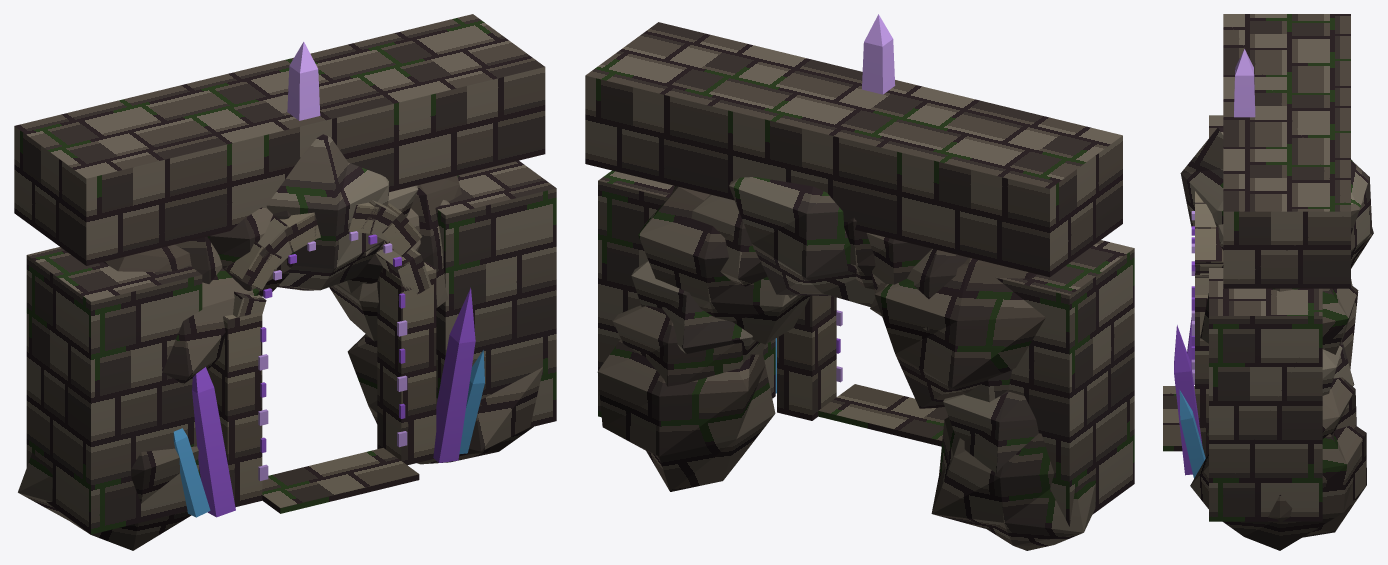
The model's file is prism_door.glb.
3 views of the same model, side by side, from view 1: azimuth 30°, elevation 25°; view 2: azimuth 150°, elevation 25°; view 3: azimuth 270°, elevation 25° (orthographic). The views are drawn at different scales.
Parts seen in each view (by area): view 1: prism_door; view 2: prism_door; view 3: prism_door.
Boxes of the visible parts, bbox=[...] form: prism_door: bbox=[14, 14, 556, 550]; prism_door: bbox=[585, 14, 1134, 550]; prism_door: bbox=[1163, 14, 1373, 550].
Bounding box in the file's own units: 6.91 × 6.55 × 2.97.
2 materials, 1 textured.
